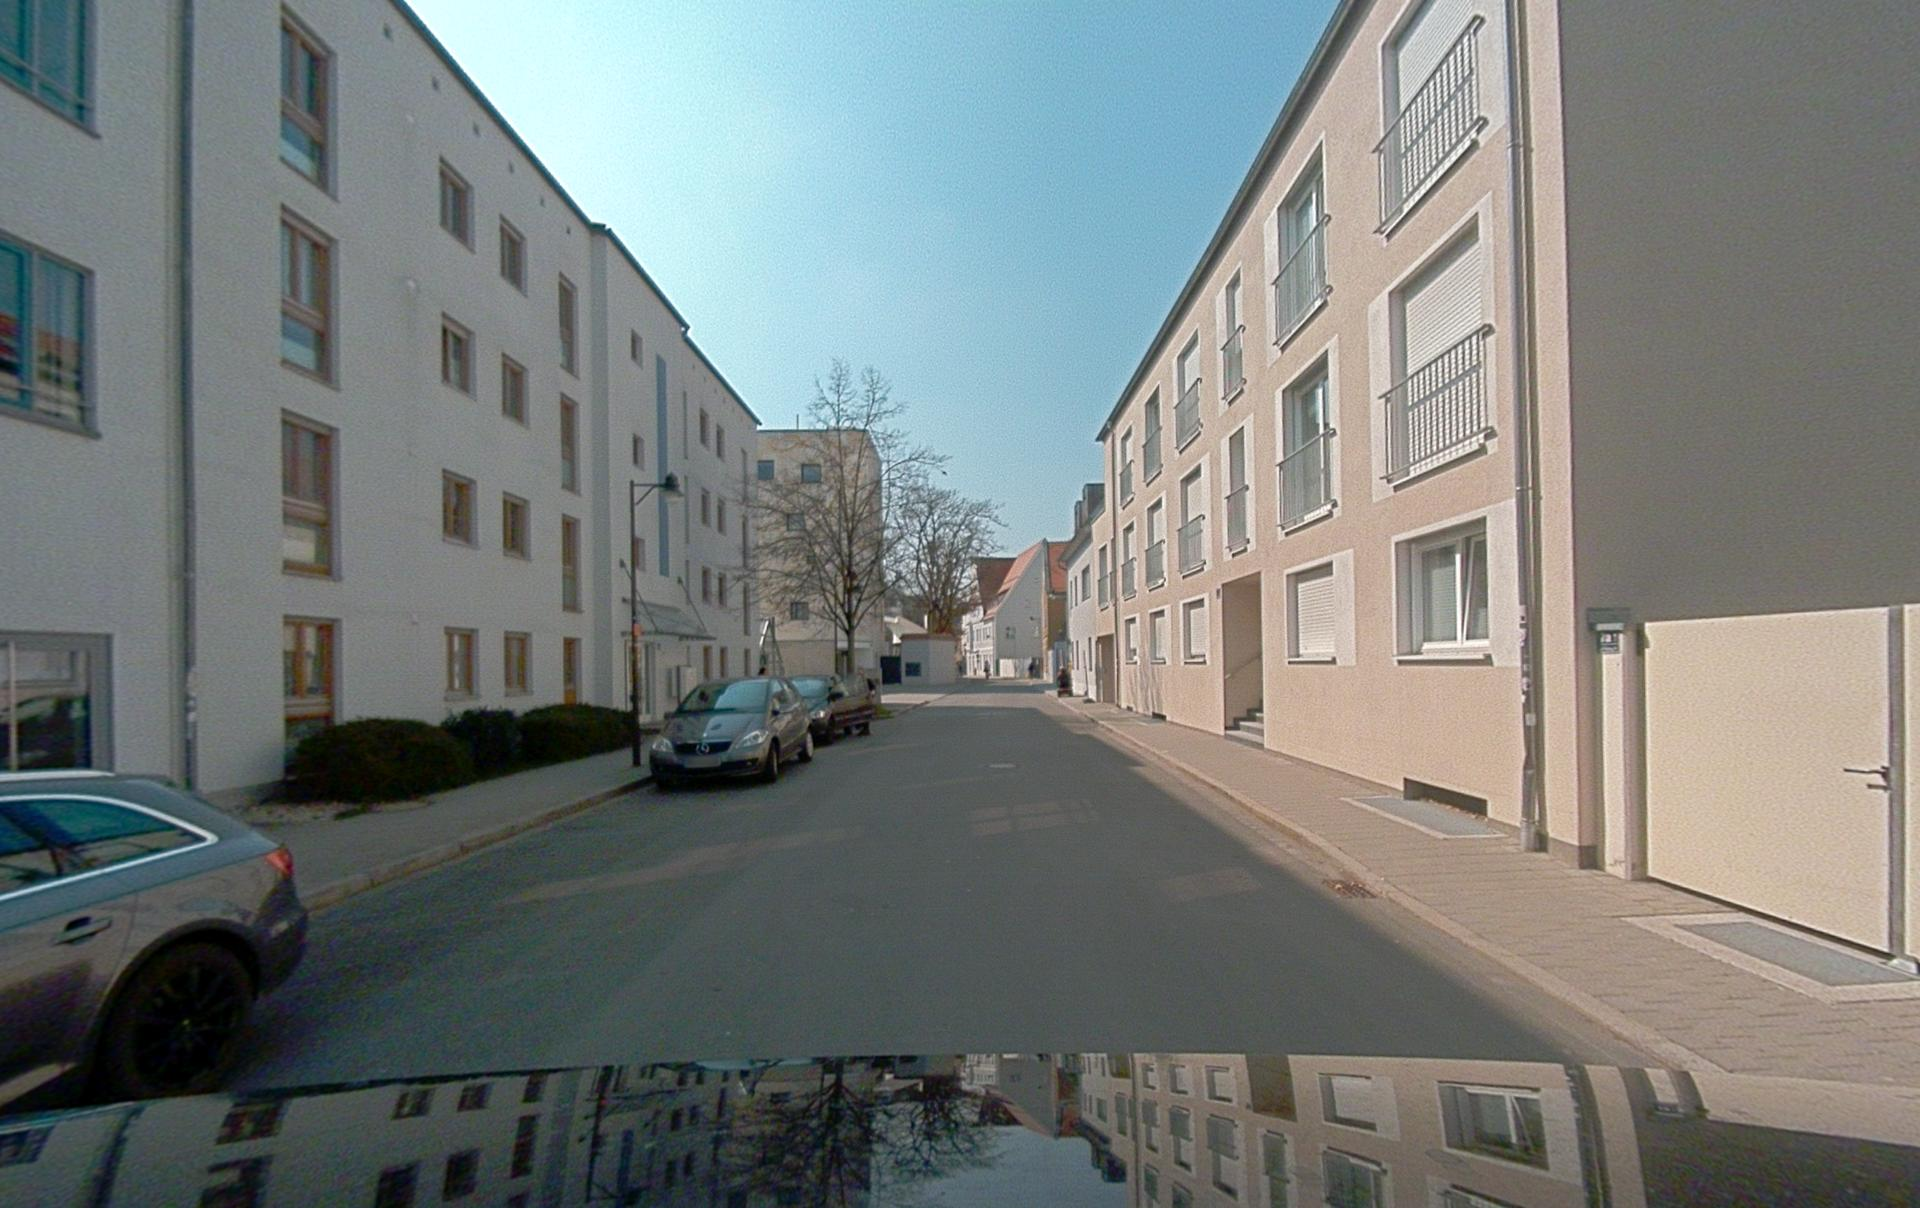car: (0, 771, 307, 1106), (648, 676, 813, 786), (790, 675, 875, 743)
